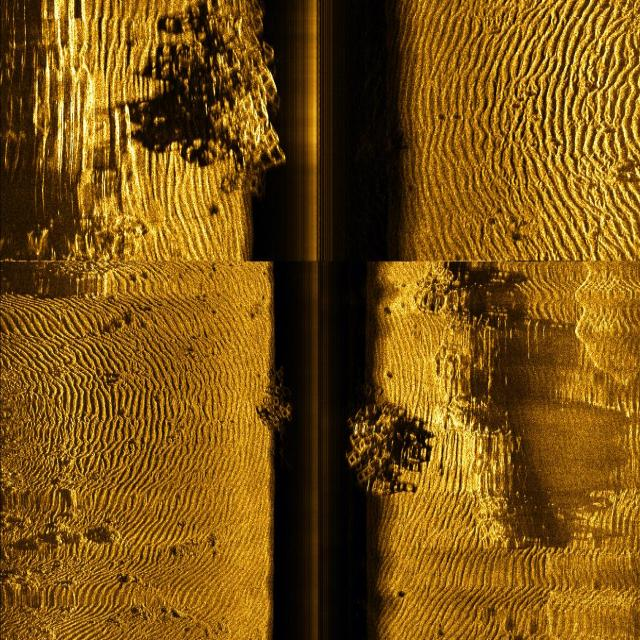artificial reef: (183, 0, 291, 176), (338, 386, 433, 526), (250, 347, 296, 452)
